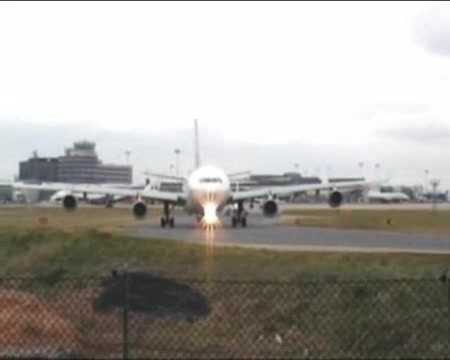aeroplane: (13, 119, 390, 228)
